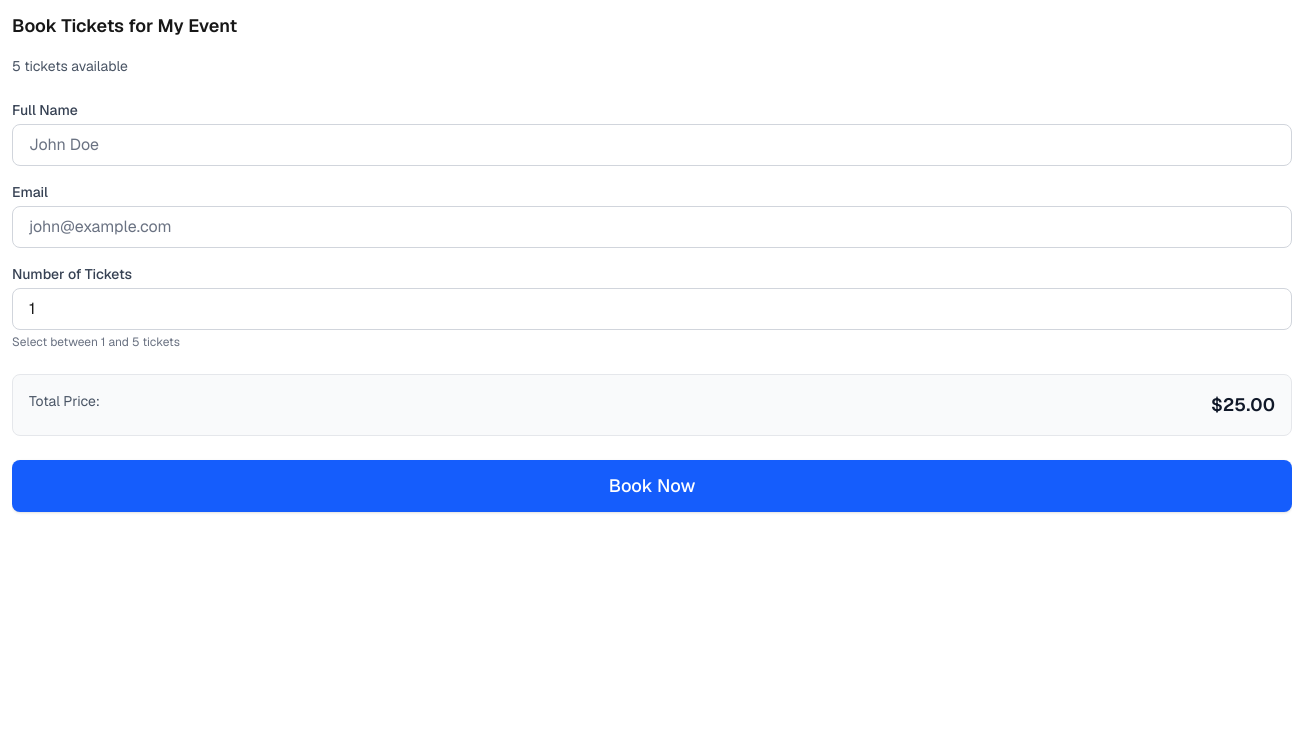
Test case: BookingForm › updates total price when tickets input changes
Replace the text in the number field labelled "Number of Tickets" with "3" at [652, 309], box left=12, top=288, right=1292, bottom=330
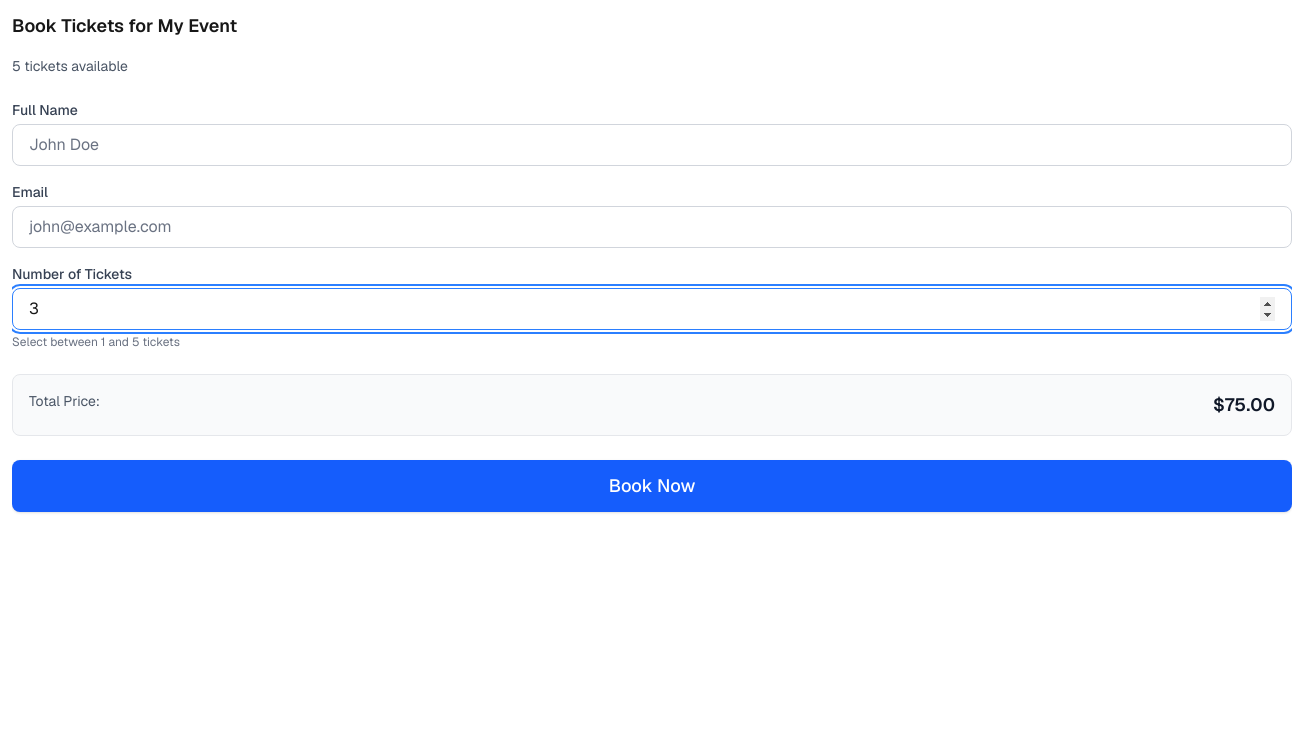
Now the text "$75.00" is shown, box left=1213, top=391, right=1275, bottom=419
